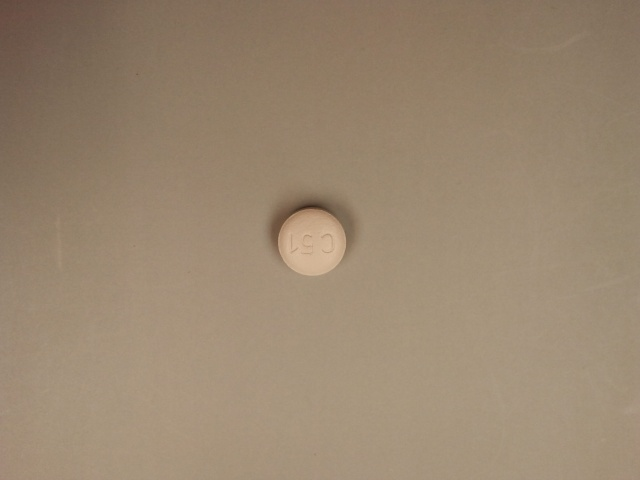1: (285, 233, 301, 256)
5: (298, 232, 316, 257)
C: (319, 228, 336, 257)
